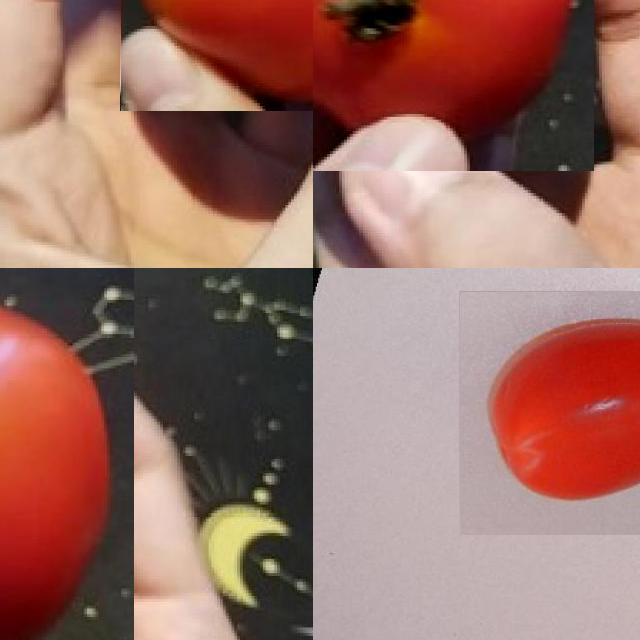Fresh Tomato: (0, 268, 134, 640), (313, 0, 593, 171), (459, 290, 640, 535), (120, 0, 313, 111)
